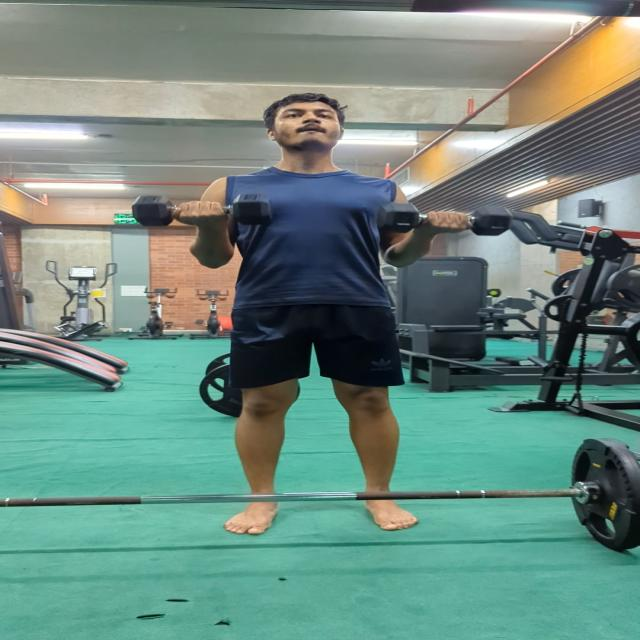Normal_DumbbellBicepCurls: (126, 88, 516, 550)
